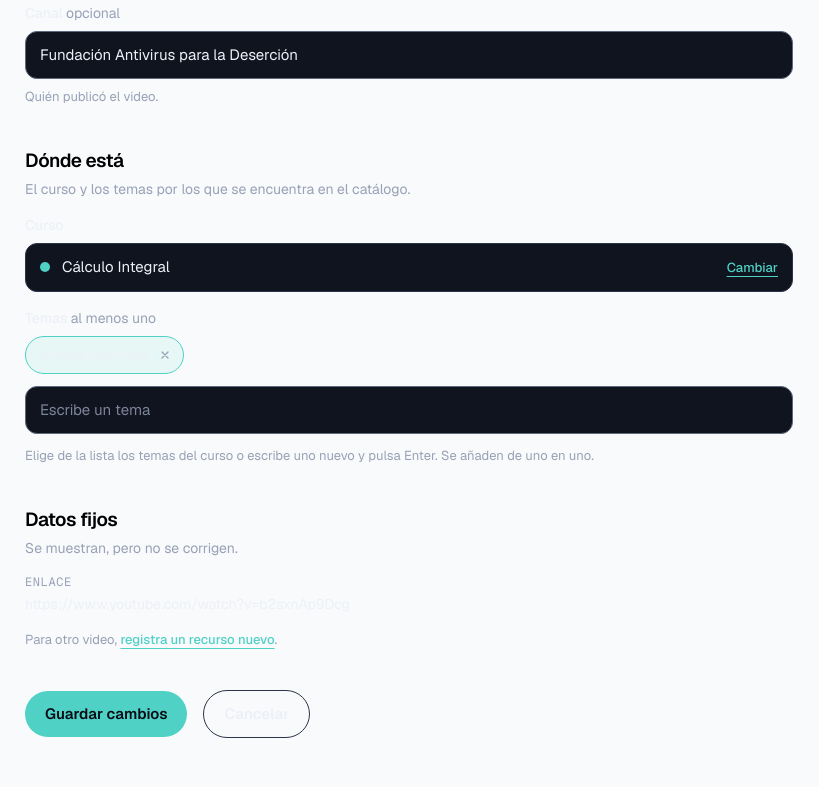
Test: EditResourcePage › muestra junto al campo el error de validación que devuelve el backend
(page scrolled)
What coordinates should you click on to do the following:
click the button "Guardar cambios"
I would click on:
 (106, 714)
Its box is [25,691,188,737].
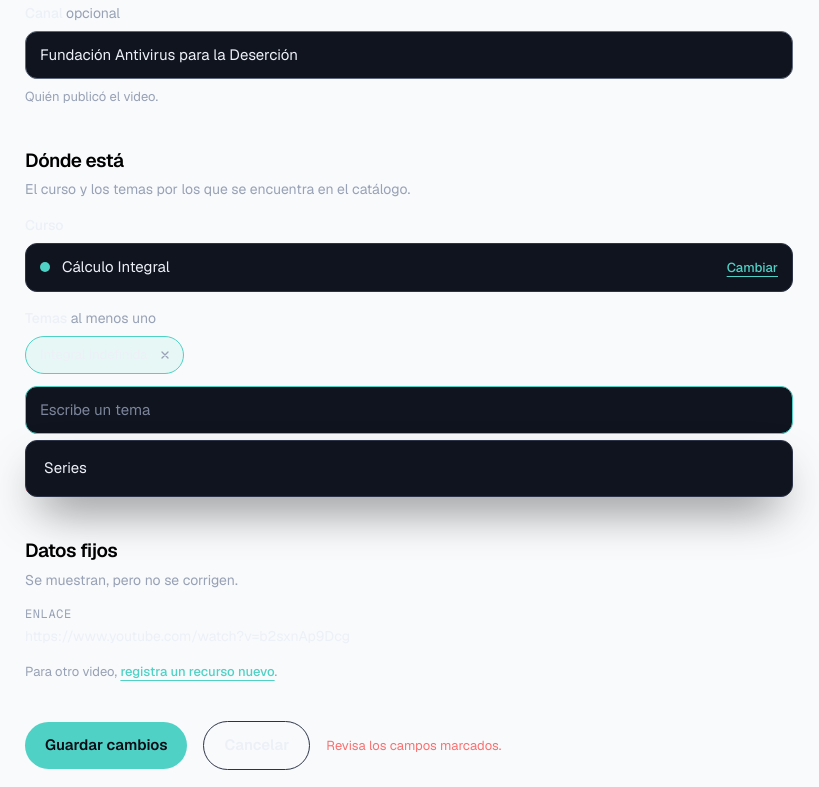
Check: the text "Un tema no puede tener más de 200 caracteres." is shown, box [25,479,312,496]
